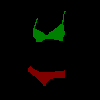mutande: (28, 65, 65, 86)
reggiseno: (33, 10, 66, 42)
